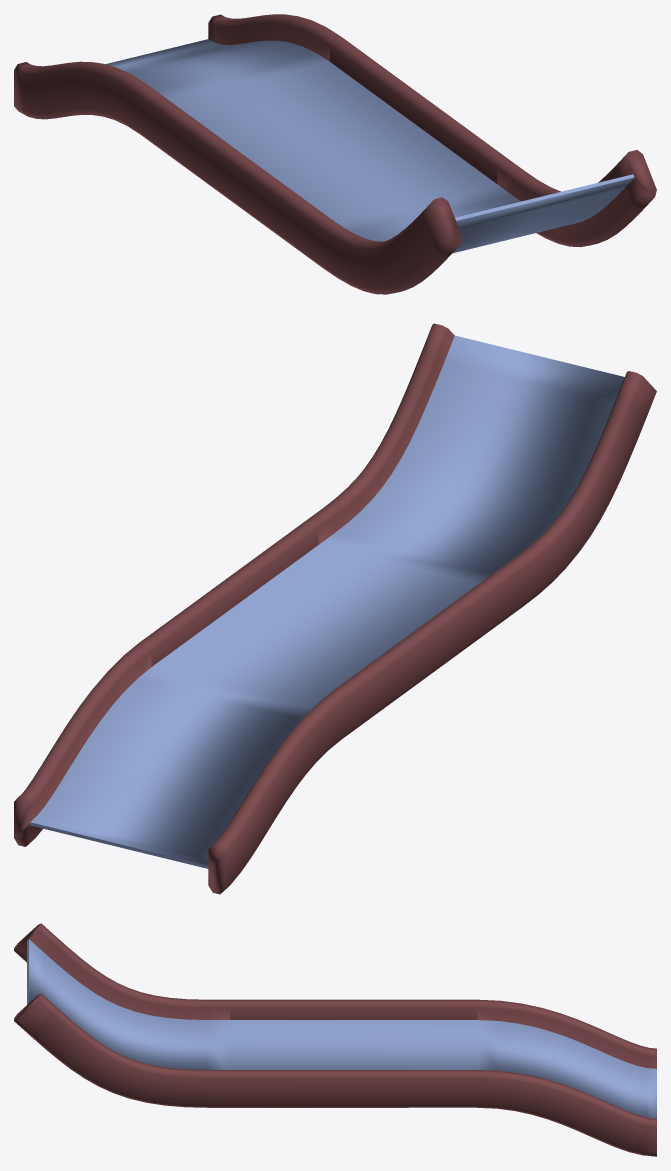
Rendered from OB_StraightJump.fbx.
3 views of the same model, one above another, from view 1: azimuth 30°, elevation 25°; view 2: azimuth 150°, elevation 25°; view 3: azimuth 270°, elevation 25° (orthographic). The views are drawn at different scales.
Parts seen in each view (by area): view 1: BezierCurve.002; view 2: BezierCurve.002; view 3: BezierCurve.002.
Boxes of the visible parts, bbox=[...] form: BezierCurve.002: bbox=[14, 14, 656, 294]; BezierCurve.002: bbox=[14, 323, 656, 894]; BezierCurve.002: bbox=[14, 923, 656, 1156].
Bounding box in the file's own units: 136 × 134 × 487.
